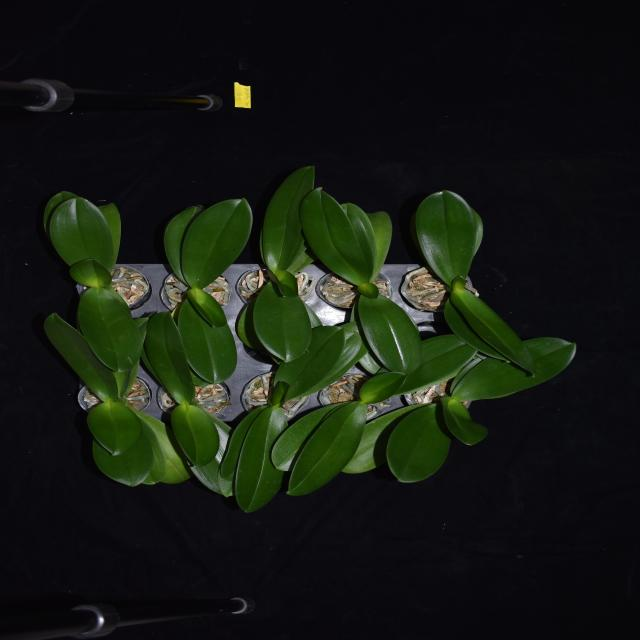leaf: (438, 285, 538, 381), (454, 325, 576, 398), (302, 188, 394, 281), (405, 188, 488, 290), (161, 194, 252, 286), (39, 188, 121, 287), (284, 401, 366, 495), (255, 162, 321, 274), (44, 312, 120, 399), (355, 287, 424, 372), (225, 408, 282, 510), (72, 288, 142, 369), (172, 295, 237, 381), (138, 313, 199, 402), (275, 327, 343, 403), (386, 402, 450, 481), (252, 277, 311, 361), (86, 424, 155, 485), (164, 403, 220, 466), (85, 399, 142, 455), (438, 396, 488, 444), (178, 288, 228, 326), (361, 372, 407, 404)
